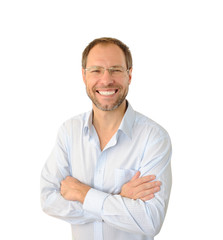young: (78, 24, 138, 110)
